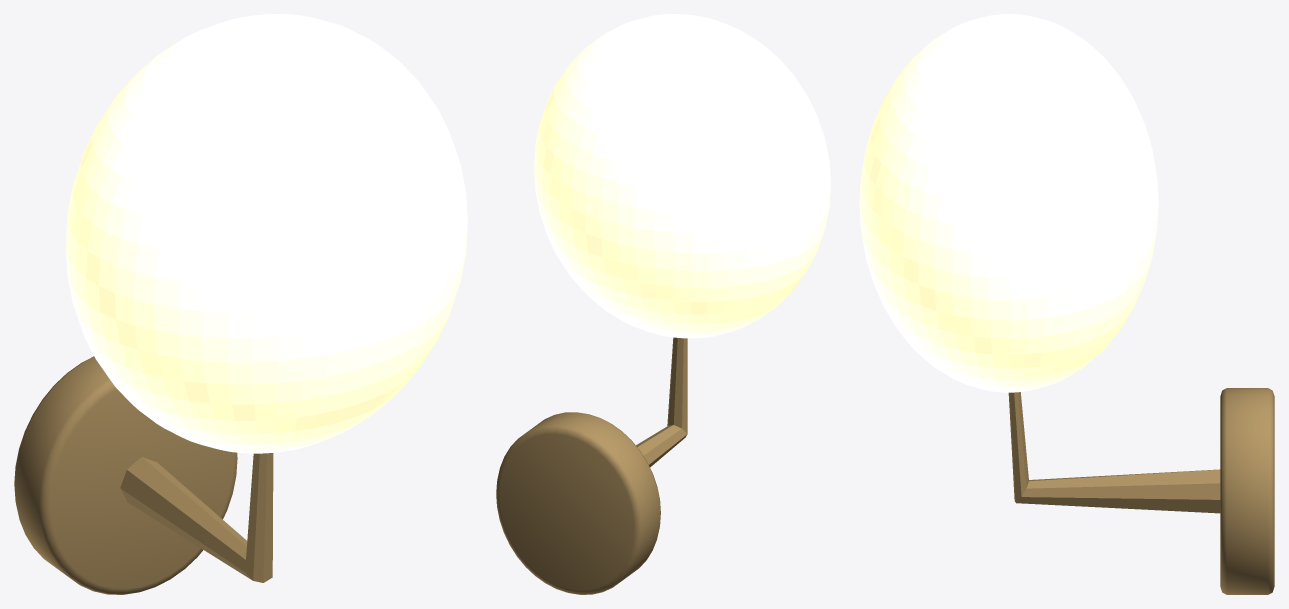
Rendered from opal-wall-sconce.glb.
3 renders of one model, left to right at view 1: azimuth 30°, elevation 25°; view 2: azimuth 150°, elevation 25°; view 3: azimuth 270°, elevation 25°, orthographic. The views are drawn at different scales.
Parts seen in each view (by area): view 1: opal-wall-sconce; view 2: opal-wall-sconce; view 3: opal-wall-sconce.
Boxes of the visible parts, bbox=[...] form: opal-wall-sconce: bbox=[14, 14, 467, 594]; opal-wall-sconce: bbox=[496, 14, 830, 594]; opal-wall-sconce: bbox=[859, 14, 1274, 594].
Bounding box in the file's own units: 0.23 × 0.4 × 0.27.
